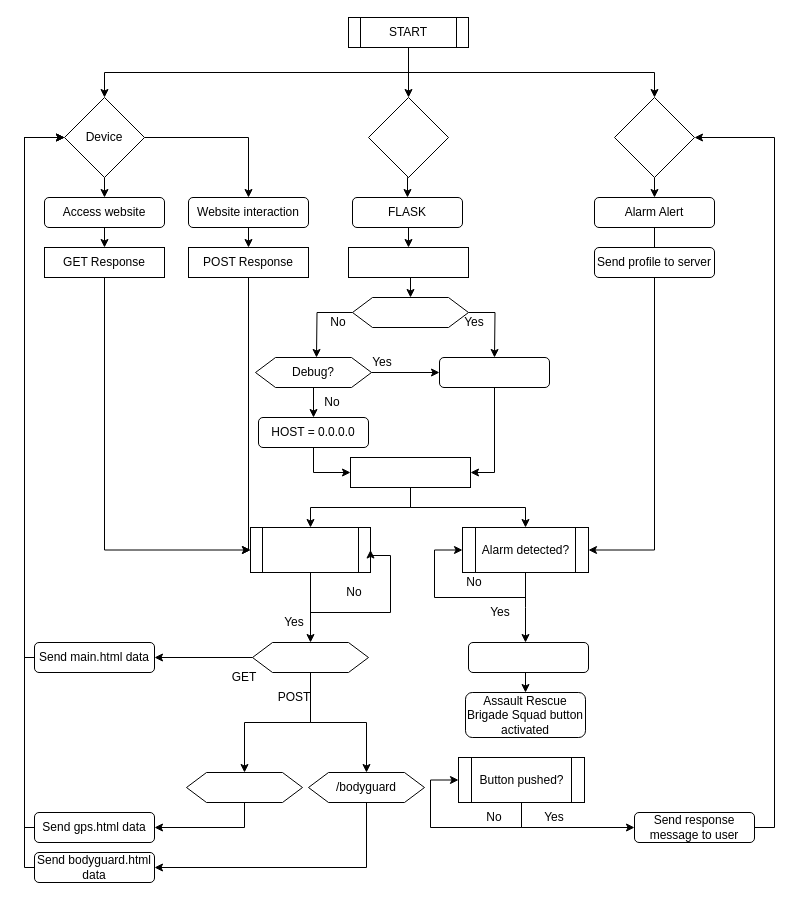
This 800x900 diagram has some shape labels left out. The centre of each missing label's shape, as x and y in pixels:
"/gps" goes at pixel 244 787.
"ESP32" goes at pixel 654 137.
"External device respond detecteD?" goes at pixel 310 549.
"GET or POST?" goes at pixel 310 657.
"HOST = 127.0.0.1" goes at pixel 494 372.
"Local?" goes at pixel 410 312.
"Update profile" goes at pixel 528 657.
"WEBSITE" goes at pixel 408 137.
"WEBSITE START" goes at pixel 408 262.
"WEBSITE STARTED" goes at pixel 410 472.
